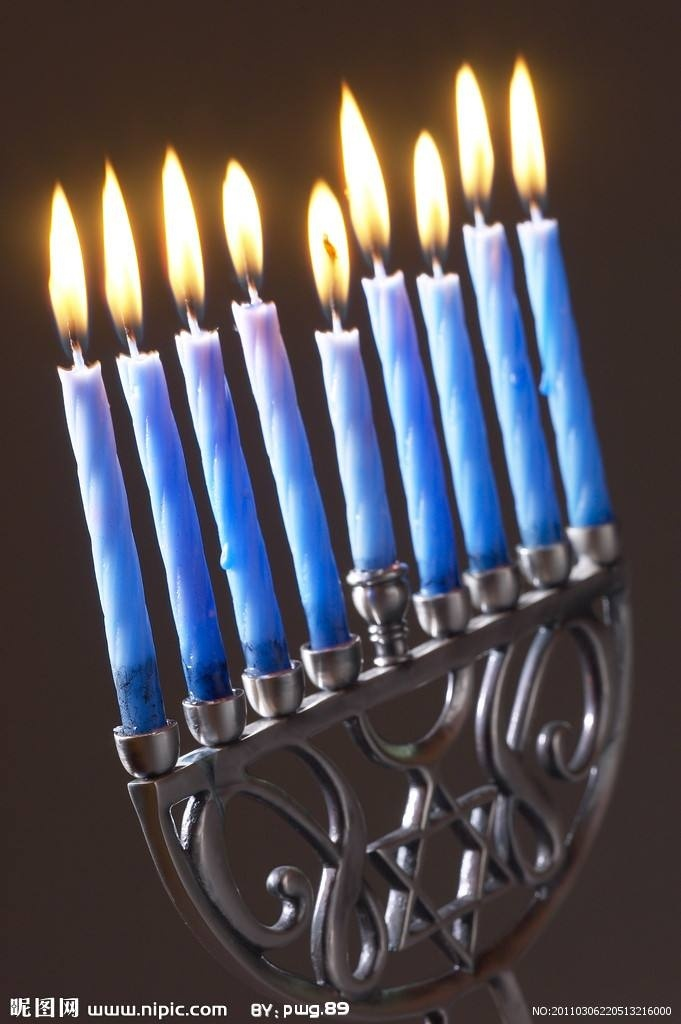fire: (333, 80, 389, 304), (41, 171, 90, 365), (99, 155, 142, 360), (163, 146, 204, 333), (456, 55, 500, 229), (505, 52, 549, 218), (219, 151, 265, 307), (308, 175, 348, 319), (410, 123, 447, 264)
